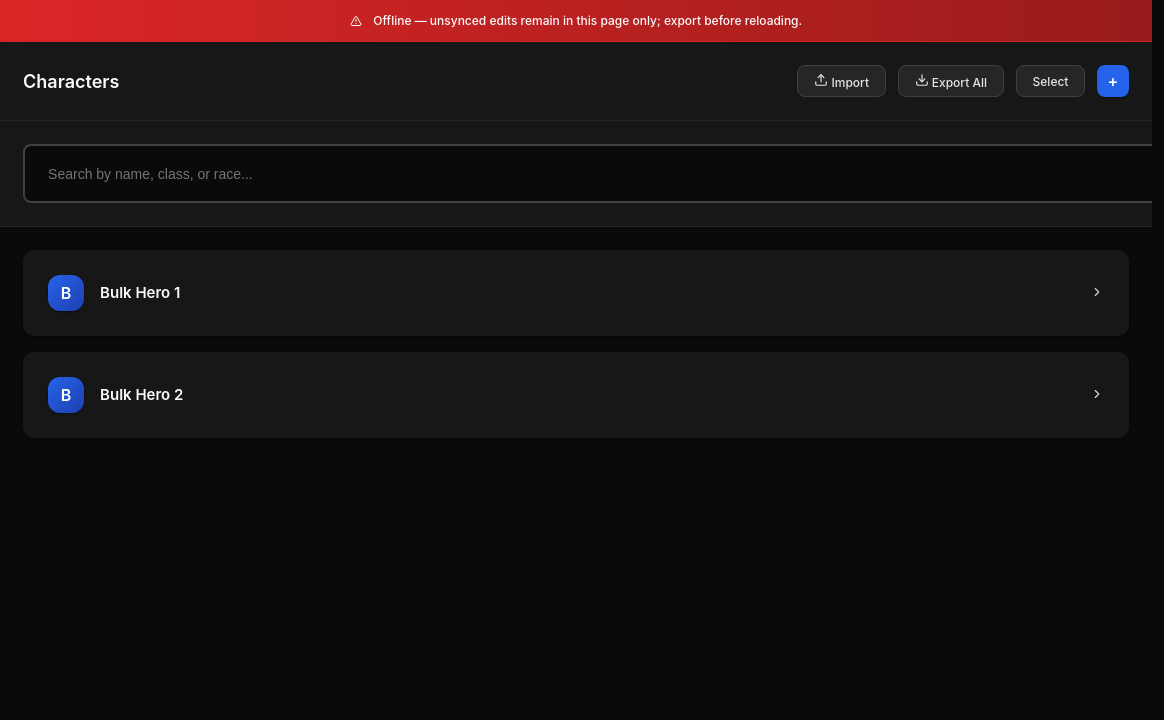
Test: CharacterPanel › Bulk Operations › supports select all functionality
# Enter bulk selection mode
Click the button "Select" at (1051, 81), box [1016, 65, 1086, 97]
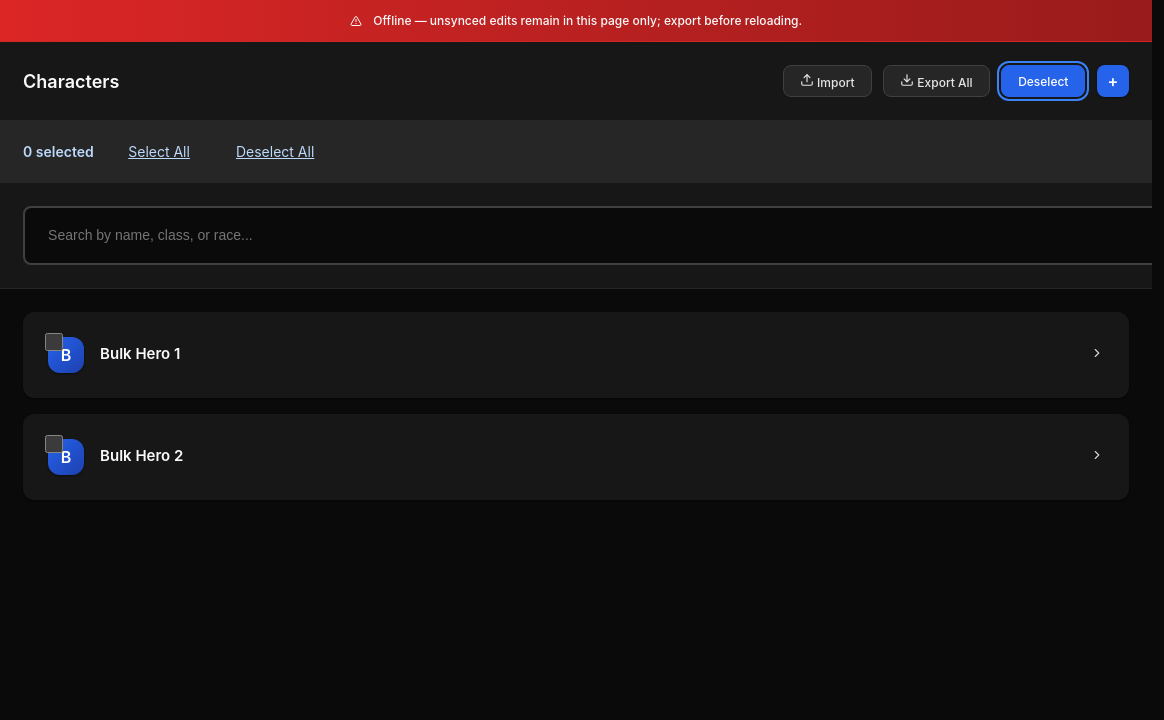
# Click select all - get the first one (should be the actual select all button)
Click the button "Select All" at (159, 151), box [117, 137, 201, 166]
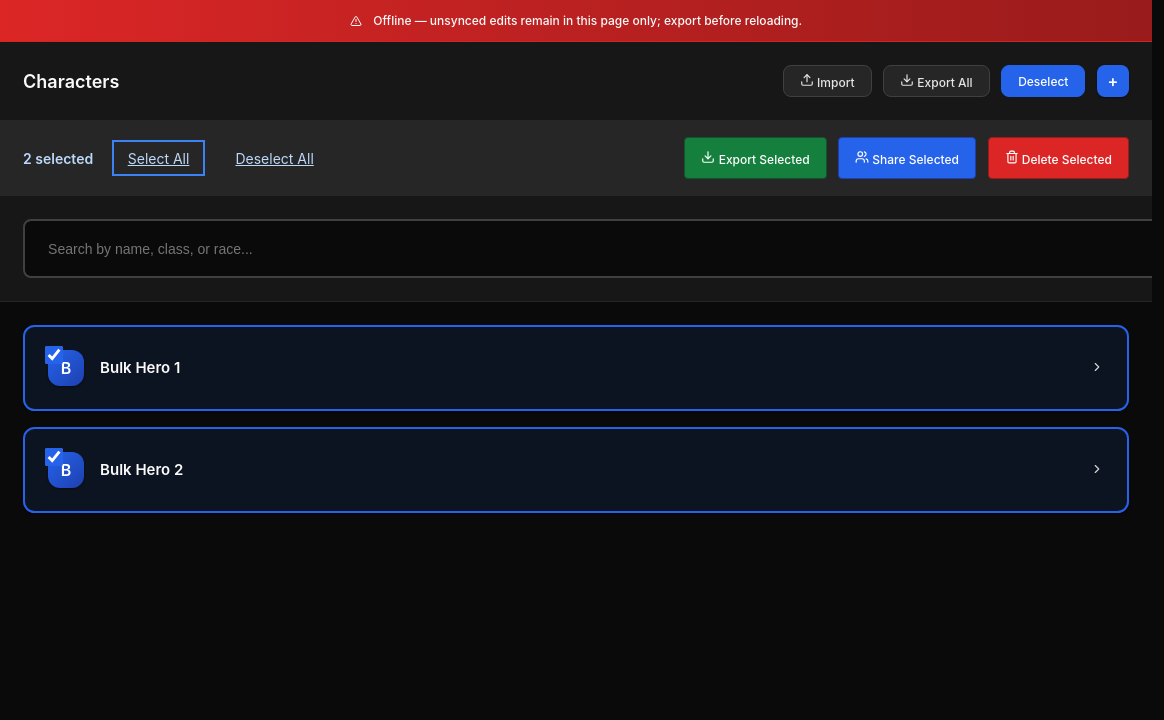
Check: the 1st checkbox is checked, box [45, 346, 63, 364]
Check: the 2nd checkbox is checked, box [45, 448, 63, 466]
